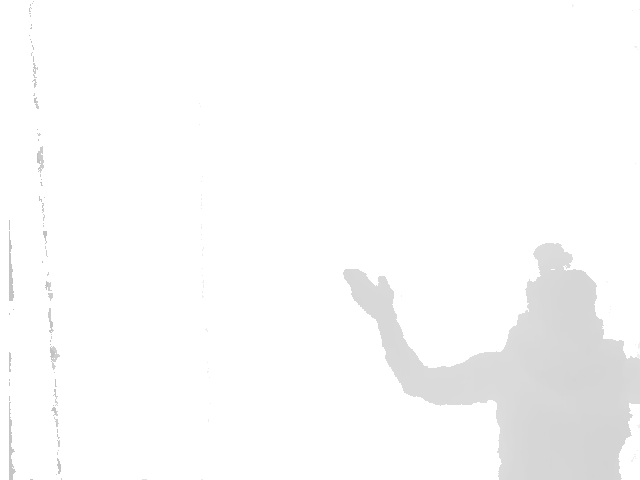head: (518, 244, 607, 341)
person: (342, 242, 640, 476)
